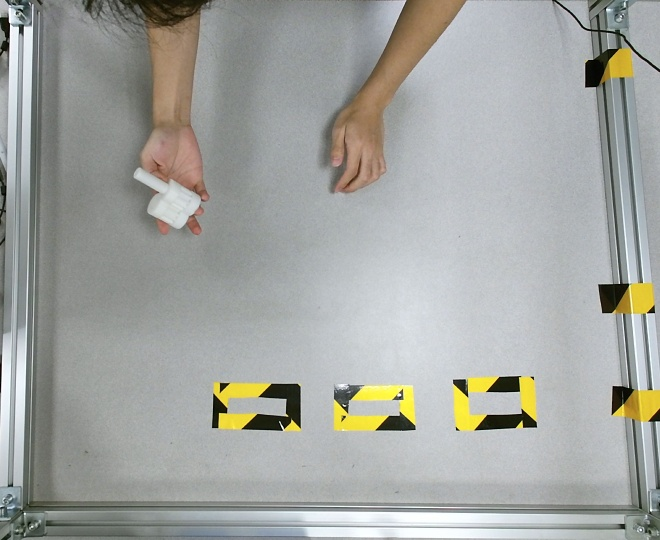stage_4: (133, 168, 201, 230)
